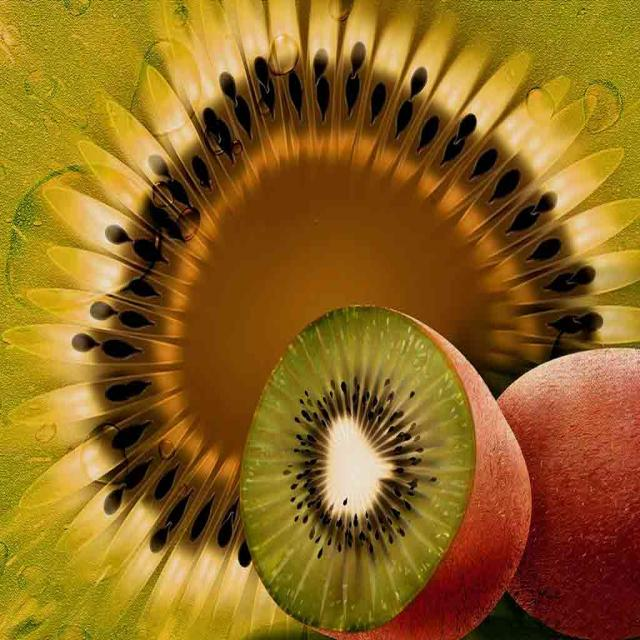kiwi: (0, 8, 595, 610), (242, 332, 538, 635), (471, 313, 640, 640)
